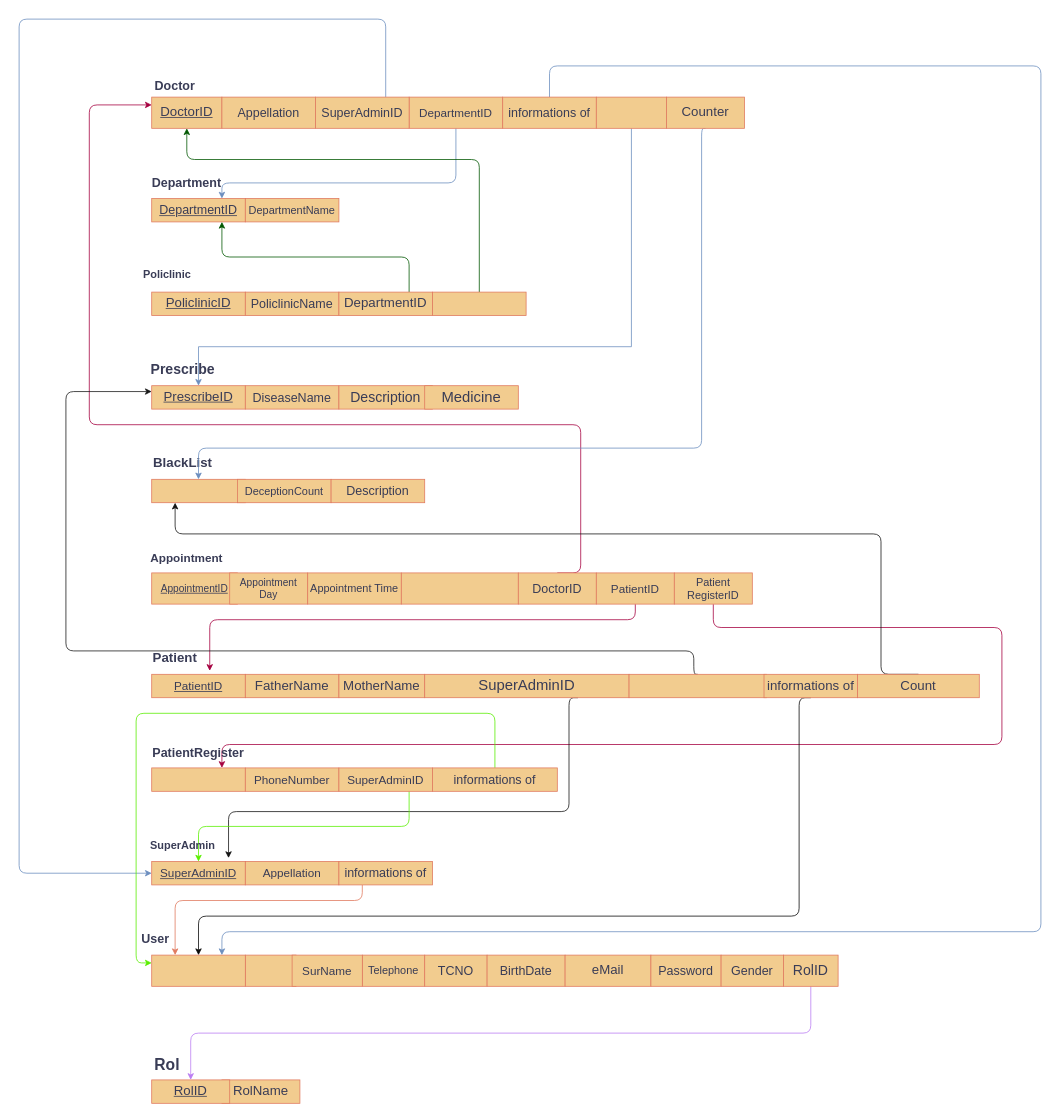
The diagram is 1061 pixels wide and 1117 high, and some of its shapes have lost their labels. The centre of each missing label's shape, as x and y in pixels:
"Appointment created day" belongs at point (459, 588).
"BlackListID" belongs at point (198, 491).
"Name" belongs at point (270, 970).
"PatientRegisterID" belongs at point (198, 779).
"Taken by" belongs at point (697, 686).
"UserID" belongs at point (198, 970).
"works in a" belongs at point (479, 303).
"writes" belongs at point (631, 112).
